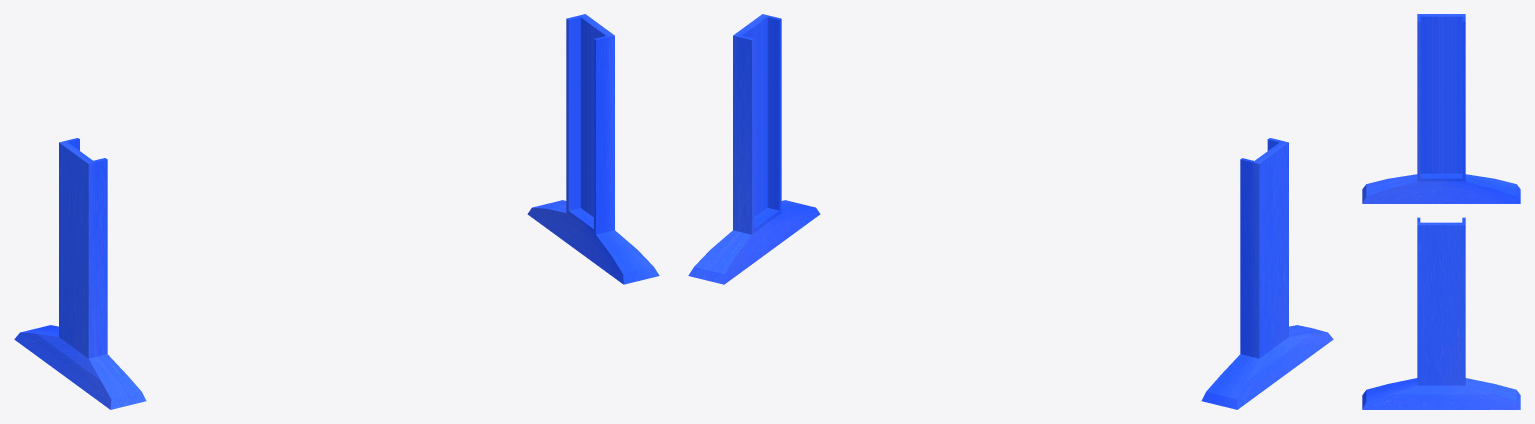
Rendered from Stand.gltf.
3 renders of one model, left to right at view 1: azimuth 30°, elevation 25°; view 2: azimuth 150°, elevation 25°; view 3: azimuth 270°, elevation 25°, orthographic. The views are drawn at different scales.
Visible parts, largest first — view 1: Feet; view 2: Feet; view 3: Feet.
Boxes of the visible parts, left/top/right/bottom form: Feet: left=14, top=14, right=659, bottom=409; Feet: left=688, top=14, right=1333, bottom=409; Feet: left=1362, top=14, right=1520, bottom=409.
Bounding box in the file's own units: 8.96 × 3.41 × 2.72.
1 material, 1 textured.
